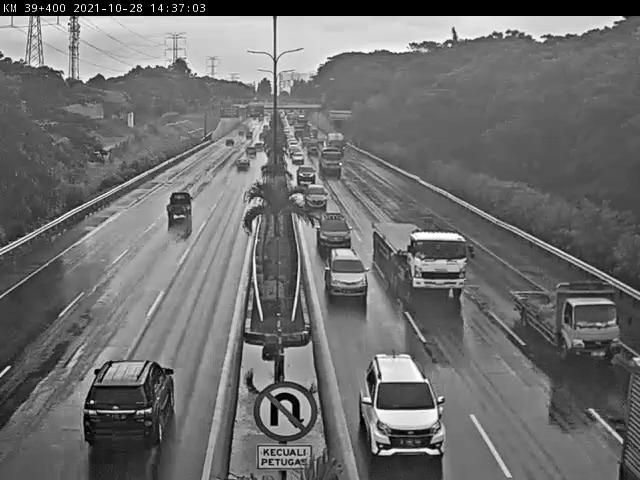big truck: (392, 214, 472, 305)
car: (381, 356, 450, 458), (70, 364, 182, 416), (326, 251, 366, 314), (315, 210, 354, 248), (160, 199, 190, 233), (304, 182, 327, 214)
small truck: (557, 295, 624, 362)
